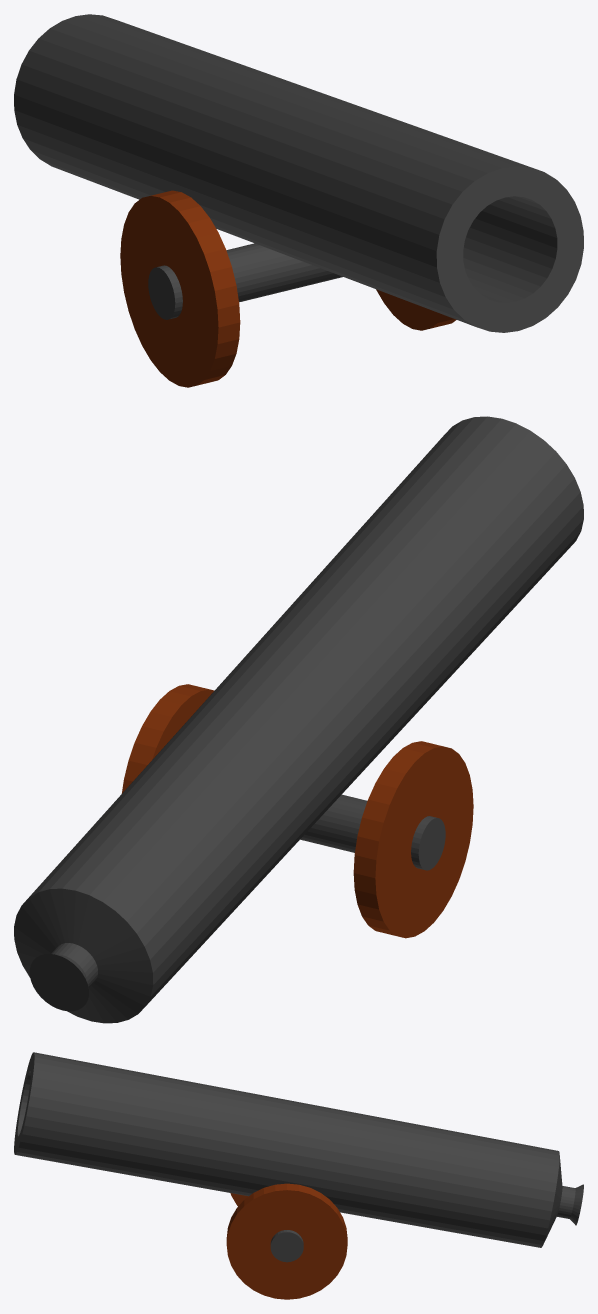
File: pushka.fbx
3 views of the same model, one above another, from view 1: azimuth 30°, elevation 25°; view 2: azimuth 150°, elevation 25°; view 3: azimuth 270°, elevation 25° (orthographic). The views are drawn at different scales.
Visible parts, largest first — view 1: Cylinder.003, Cylinder.001, Cylinder.002, Cylinder; view 2: Cylinder.003, Cylinder.001, Cylinder.002, Cylinder; view 3: Cylinder.003, Cylinder, Cylinder.002.
Boxes of the visible parts, <box> form: Cylinder.003: <box>14,14,583,332</box>; Cylinder.001: <box>120,190,240,387</box>; Cylinder.002: <box>148,243,342,319</box>; Cylinder: <box>376,289,456,330</box>; Cylinder.003: <box>14,416,583,1023</box>; Cylinder.001: <box>353,741,473,938</box>; Cylinder.002: <box>300,794,445,870</box>; Cylinder: <box>121,684,214,793</box>; Cylinder.003: <box>14,1052,583,1247</box>; Cylinder: <box>226,1183,347,1299</box>; Cylinder.002: <box>270,1230,303,1262</box>.
Bounding box in the file's own units: 92 × 108 × 273.
